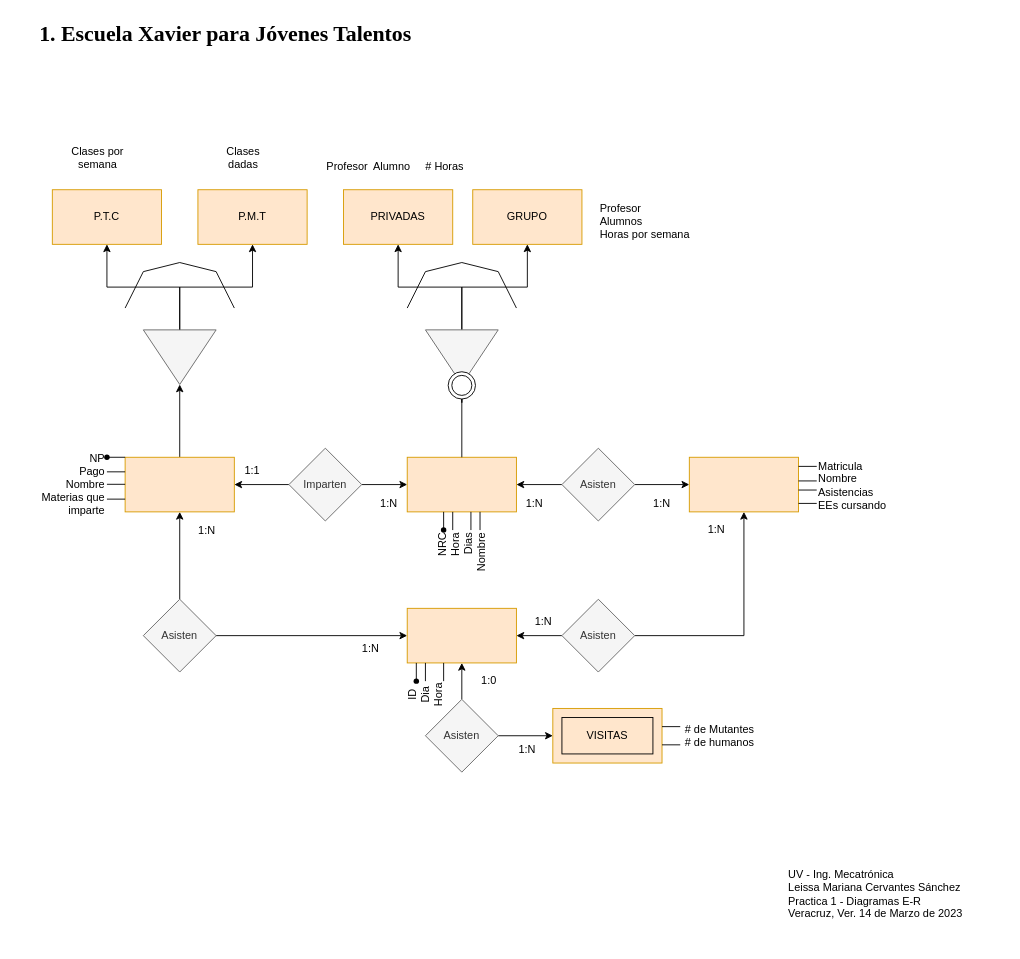
Some shapes in this 1020 by 959 pixel diagram are drawn without their labels. The shapes that lost their labels are listed below. From the top down, each one's centre as x and y in pixels, then its label:
At point 179,484: "PROFESORES".
At point 461,484: "CLASES".
At point 743,484: "ALUMNOS".
At point 461,635: "PRESENTACION".
